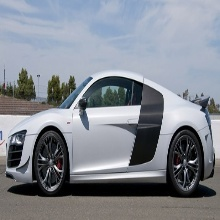no damage: (6, 71, 216, 196)
